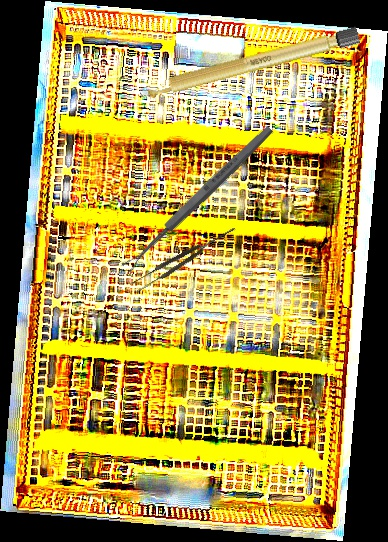Scalpel Handle: (137, 26, 361, 102)
Surgical Spoon: (120, 123, 276, 274)
Tissue Forceps: (131, 222, 239, 294)
